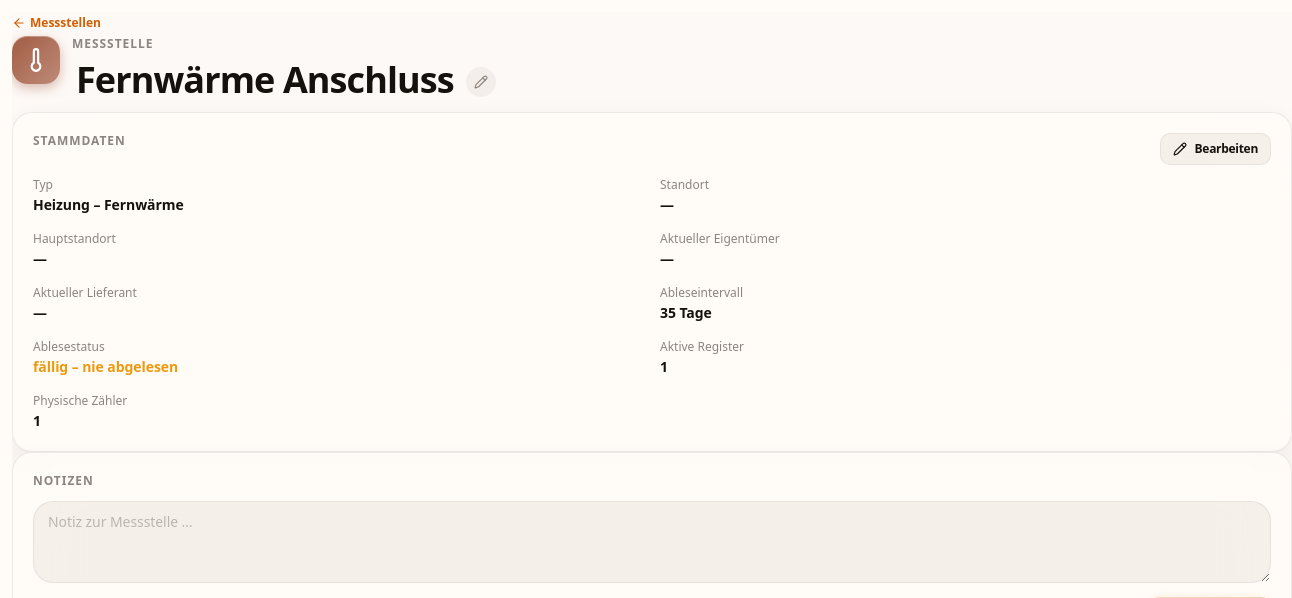
Test: MeasuringPointDetailPage Stammdaten-Card › blendet Tankvolumen im Edit-Formular bei Fernwärme aus
Click the button "Bearbeiten".
click(1215, 149)  # box top-left (1160, 133), bottom-right (1271, 165)
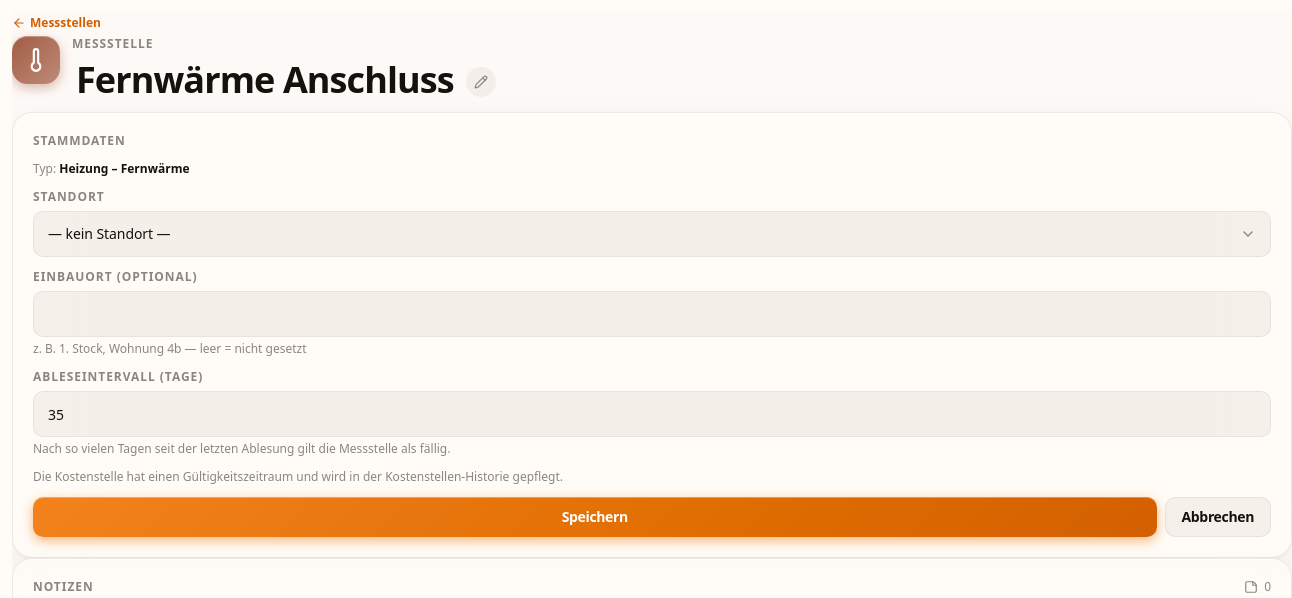
Check: the dropdown labelled "Standort" is shown, box top-left (48, 212), bottom-right (1252, 256)
